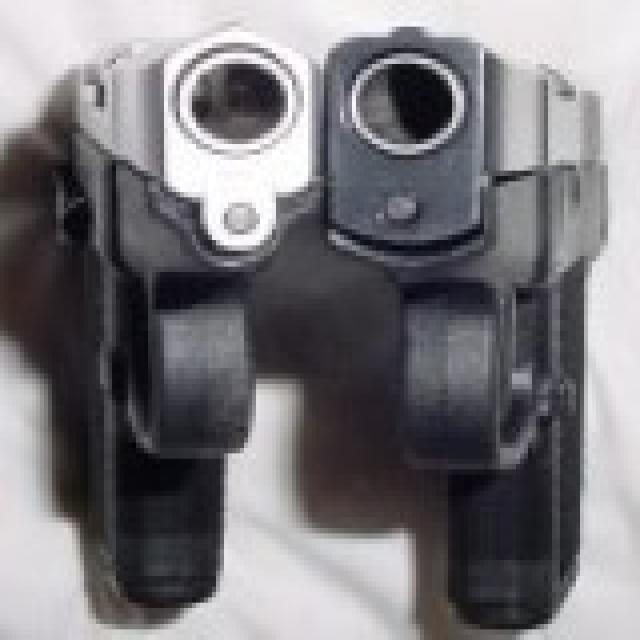Gun: (46, 23, 623, 609)
